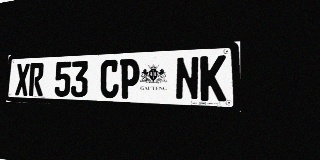3: (71, 61, 88, 97)
5: (54, 61, 71, 97)
C: (100, 59, 119, 98)
K: (200, 55, 226, 101)
N: (175, 56, 199, 101)
P: (119, 59, 140, 99)
R: (29, 62, 44, 96)
X: (15, 63, 30, 96)
